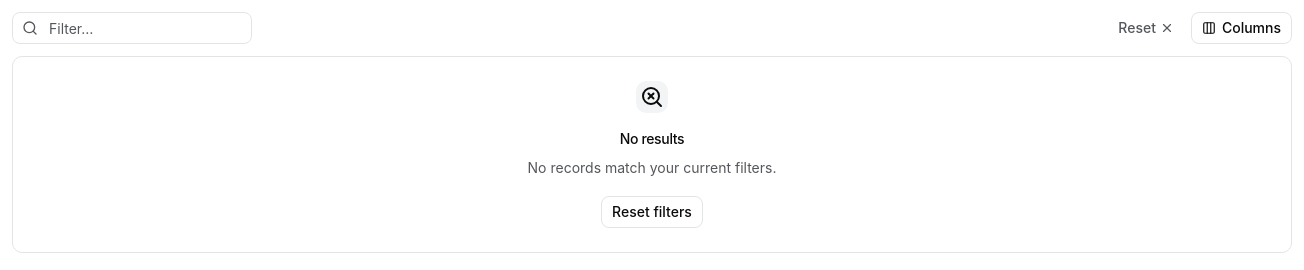
Scenario: external-filter empty state › clears page-owned filters on mobile=true
Click the button "Reset filters".
click(652, 212)  # box [601,196,703,228]
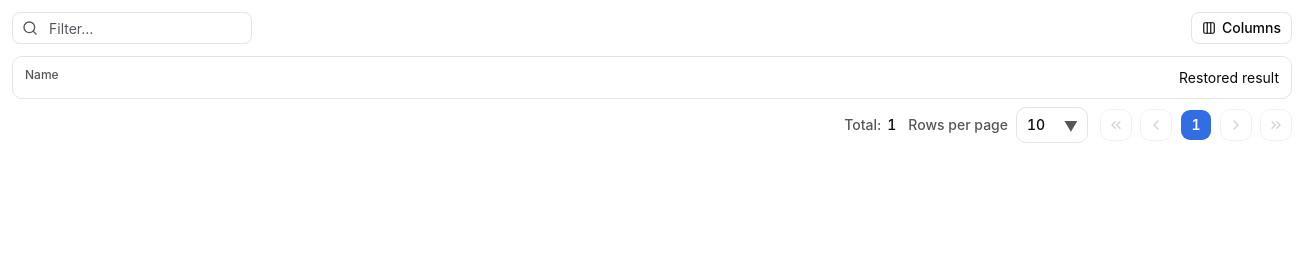
Result: the text "Restored result" is shown at [1179,69,1279,86]
